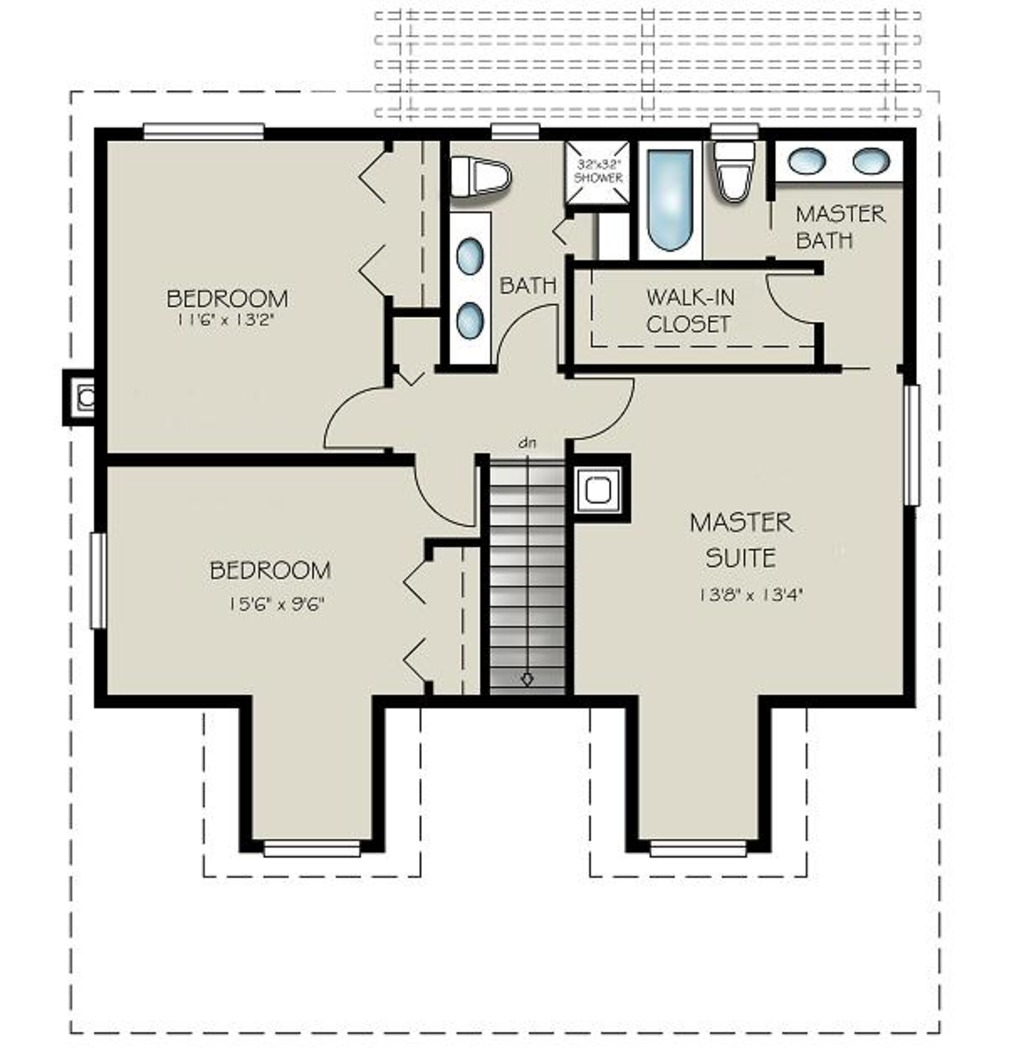door: (313, 381, 413, 459), (408, 449, 484, 534), (490, 299, 564, 378), (561, 378, 630, 451), (764, 267, 832, 330)
large_sink: (705, 130, 761, 209), (445, 147, 513, 202)
small_sink: (445, 205, 501, 370), (771, 146, 897, 186)
stairs: (479, 454, 574, 704)
tub: (637, 136, 706, 262)
window: (77, 528, 119, 623), (140, 118, 266, 146), (258, 831, 368, 862), (900, 378, 924, 507), (651, 836, 747, 860), (488, 120, 545, 143)
